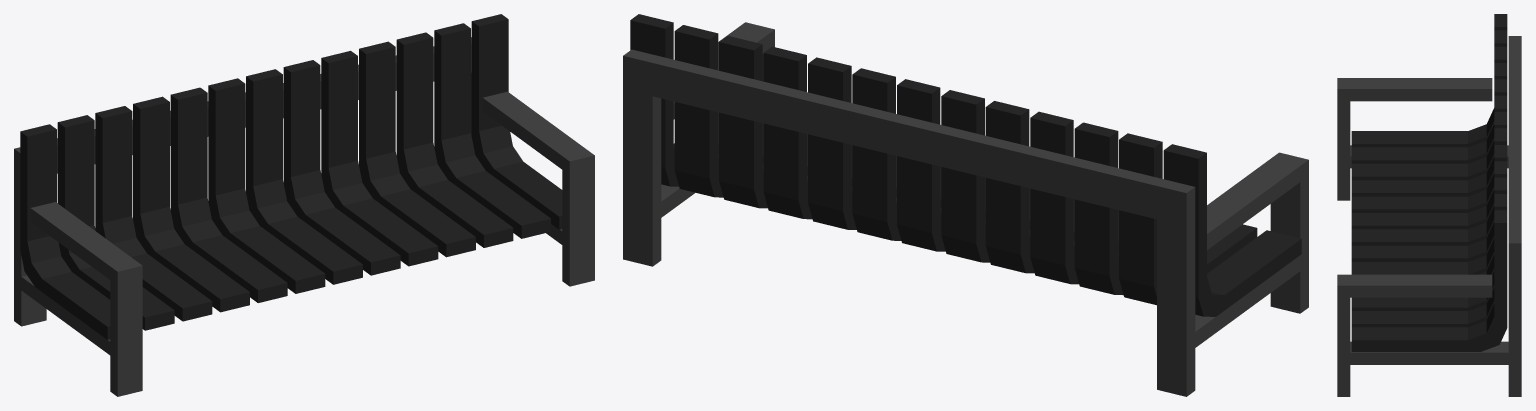
The picture shows the model from 3 angles, left to right: view 1: azimuth 30°, elevation 25°; view 2: azimuth 150°, elevation 25°; view 3: azimuth 270°, elevation 25°; orthographic projection. The views are drawn at different scales.
Visible parts, largest first — view 1: Bench B 1; view 2: Bench B 1; view 3: Bench B 1.
Part boxes in pixels (bbox=[...]): Bench B 1: bbox=[14, 14, 594, 396]; Bench B 1: bbox=[623, 14, 1308, 396]; Bench B 1: bbox=[1337, 14, 1521, 396].
Bounding box in the file's own units: 3.84 × 1.49 × 1.43.
Materials: 1 (1 with a texture image).
